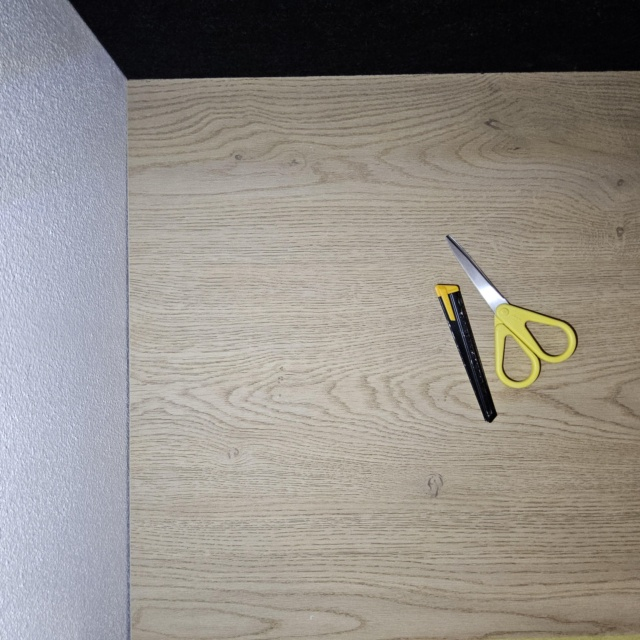scissor: (445, 234, 579, 390)
